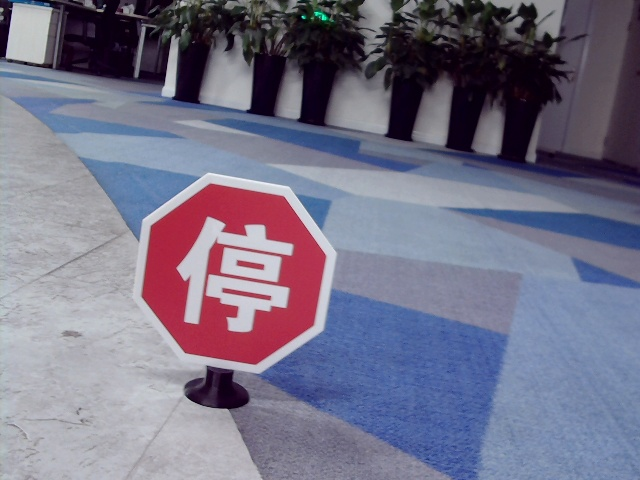stop: (178, 215, 291, 332)
